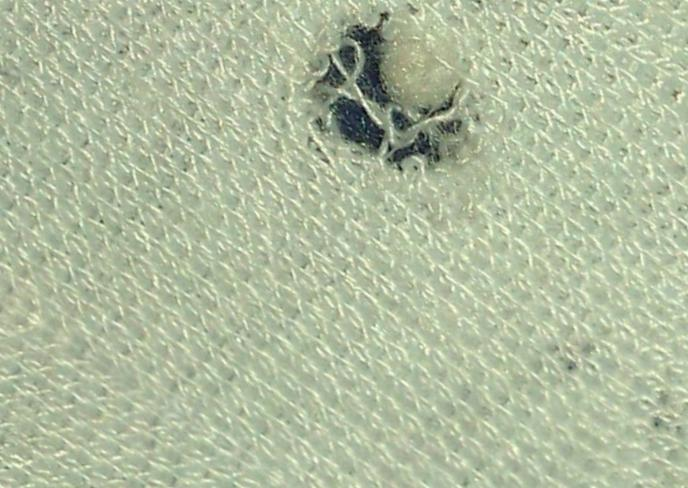hole: (355, 11, 484, 133)
